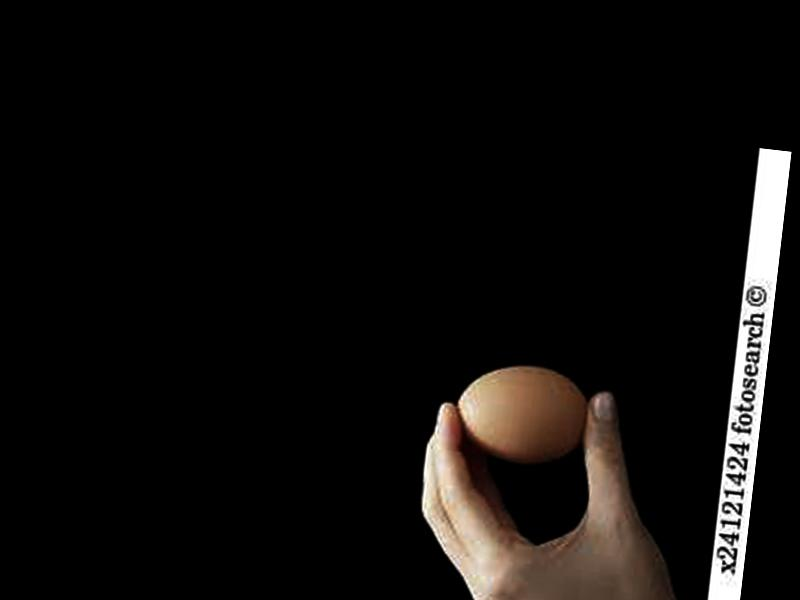Eggs: (447, 358, 592, 469)
